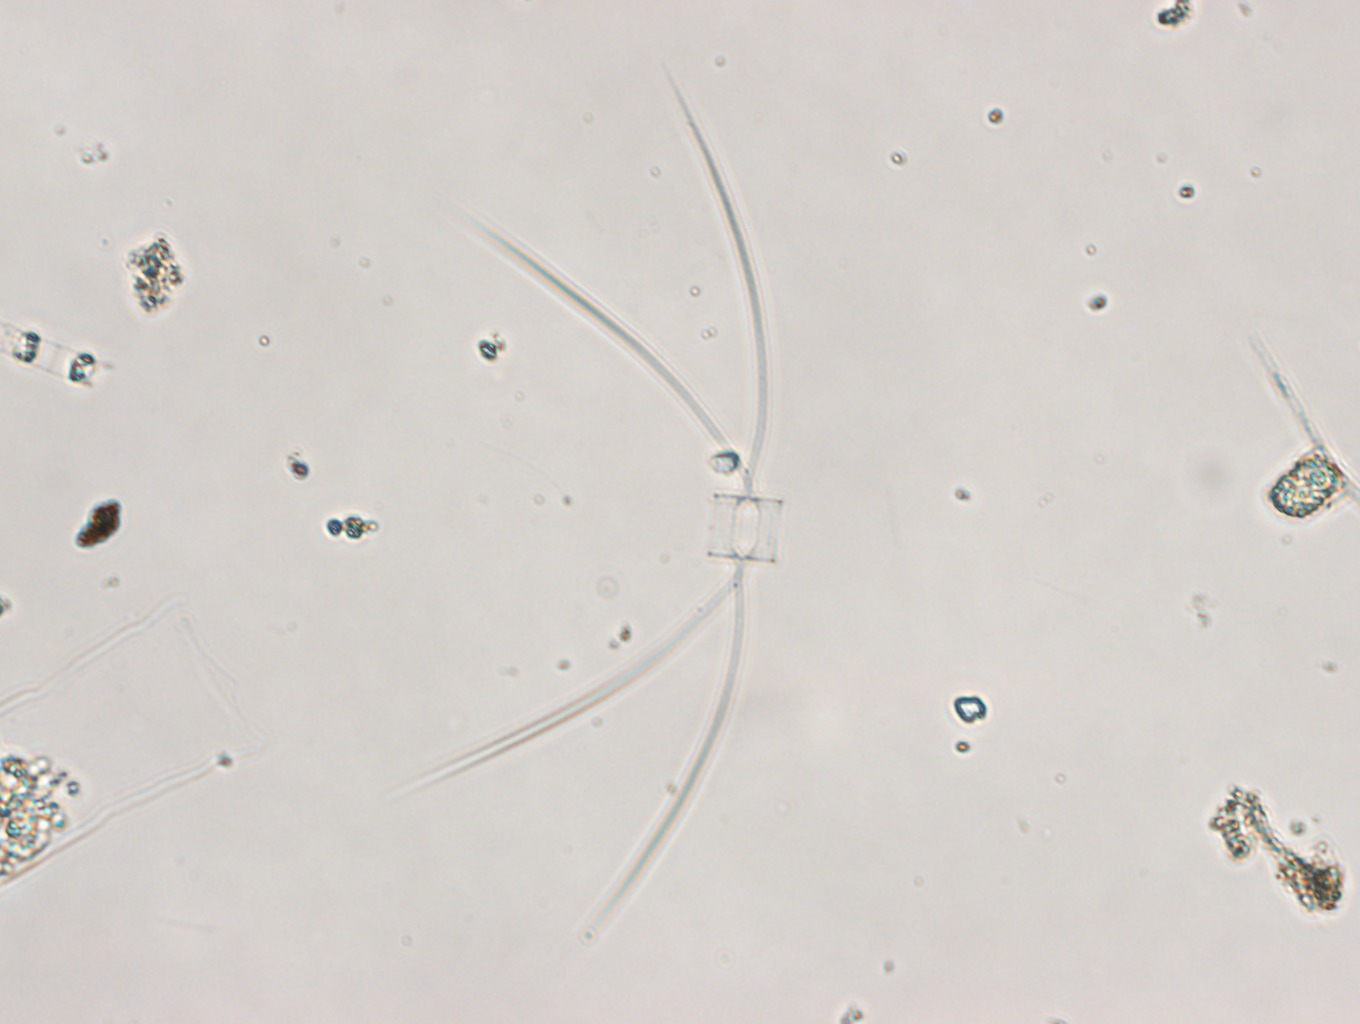chaetoceros: (400, 63, 784, 918)
